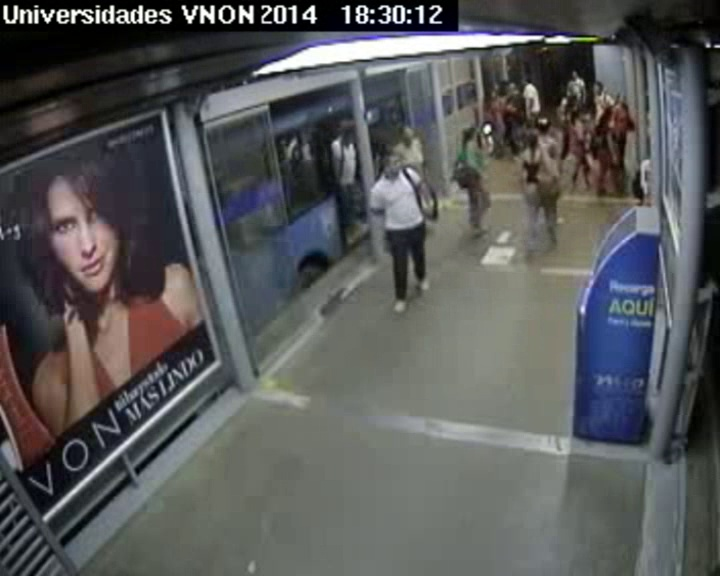person: (381, 151, 405, 179), (398, 125, 419, 146), (533, 115, 551, 136), (336, 128, 355, 147), (524, 129, 542, 149), (463, 125, 480, 143), (599, 105, 616, 122), (576, 106, 592, 122), (495, 82, 509, 97), (564, 94, 577, 109), (591, 81, 604, 95), (506, 83, 519, 97), (521, 74, 533, 85), (571, 70, 580, 80)
